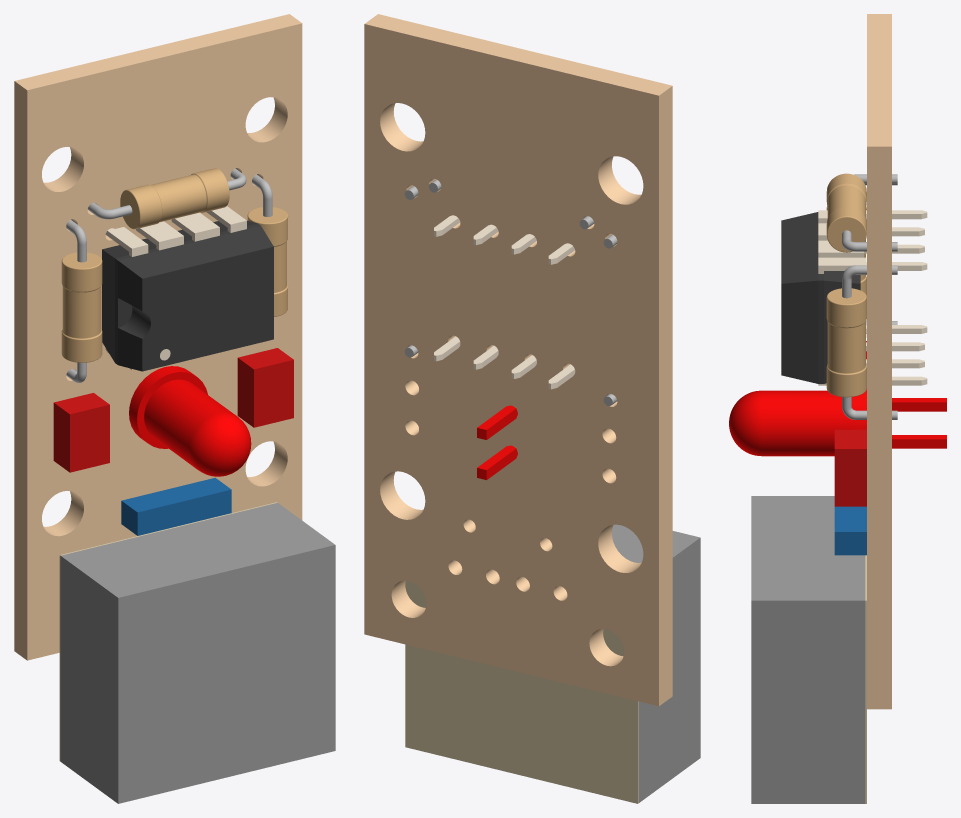
Rendered from ekomigacz.fbx.
The picture shows the model from 3 angles, left to right: view 1: azimuth 30°, elevation 25°; view 2: azimuth 150°, elevation 25°; view 3: azimuth 270°, elevation 25°; orthographic projection. The views are drawn at different scales.
Visible parts, largest first — view 1: Board, Body1, Body2 (×5), JP1 (×2), C5B3, USB-A-H; view 2: Board, USB-A-H, Body1, Body2 (×2); view 3: Body1, Body2 (×4), Board, JP1, C5B3, USB-A-H.
Part boxes in pixels (x1,y1,x2,y2): Board: [14, 14, 302, 660]; Body1: [60, 502, 335, 803]; Body2 (×5): [61, 168, 288, 476]; JP1 (×2): [53, 348, 293, 472]; C5B3: [121, 477, 231, 535]; USB-A-H: [59, 502, 277, 761]; Board: [364, 14, 672, 706]; USB-A-H: [405, 580, 638, 803]; Body1: [612, 524, 700, 802]; Body2 (×2): [434, 215, 575, 480]; Body1: [751, 496, 865, 803]; Body2 (×4): [729, 173, 946, 456]; Board: [867, 14, 891, 709]; JP1: [834, 429, 866, 506]; C5B3: [834, 506, 866, 555]; USB-A-H: [865, 555, 866, 803].
Bounding box in the file's own units: 0.0196 × 0.0461 × 0.0136.
